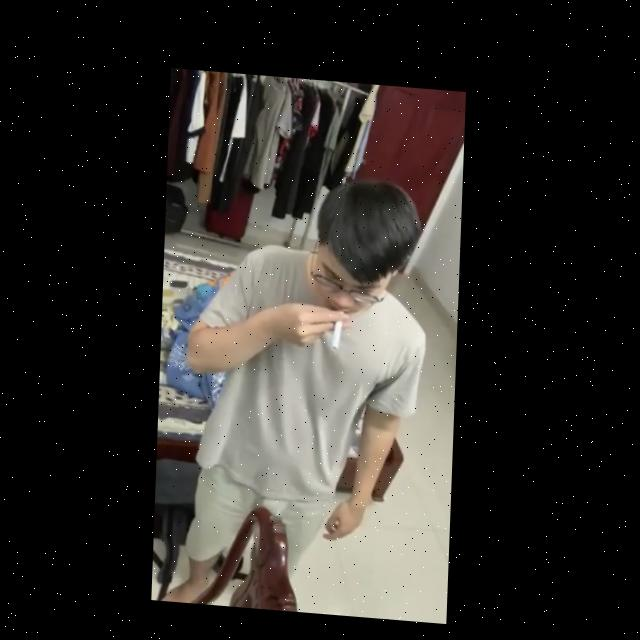cigarette: (332, 304, 346, 346)
